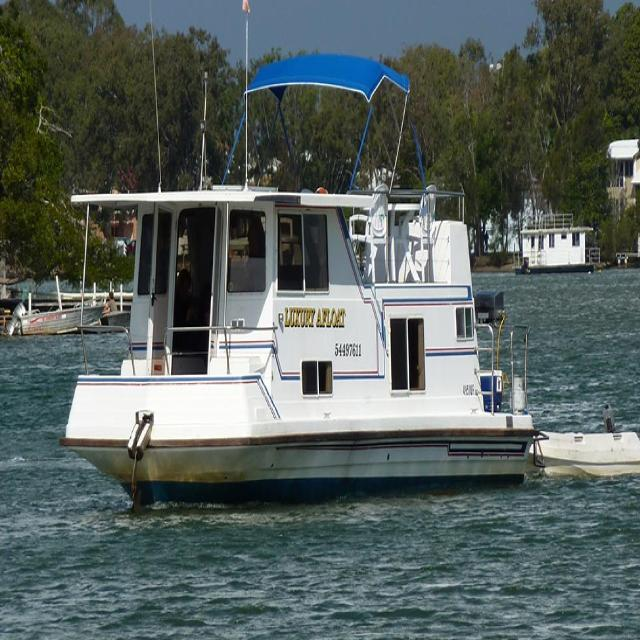houseboat: (64, 59, 527, 486)
